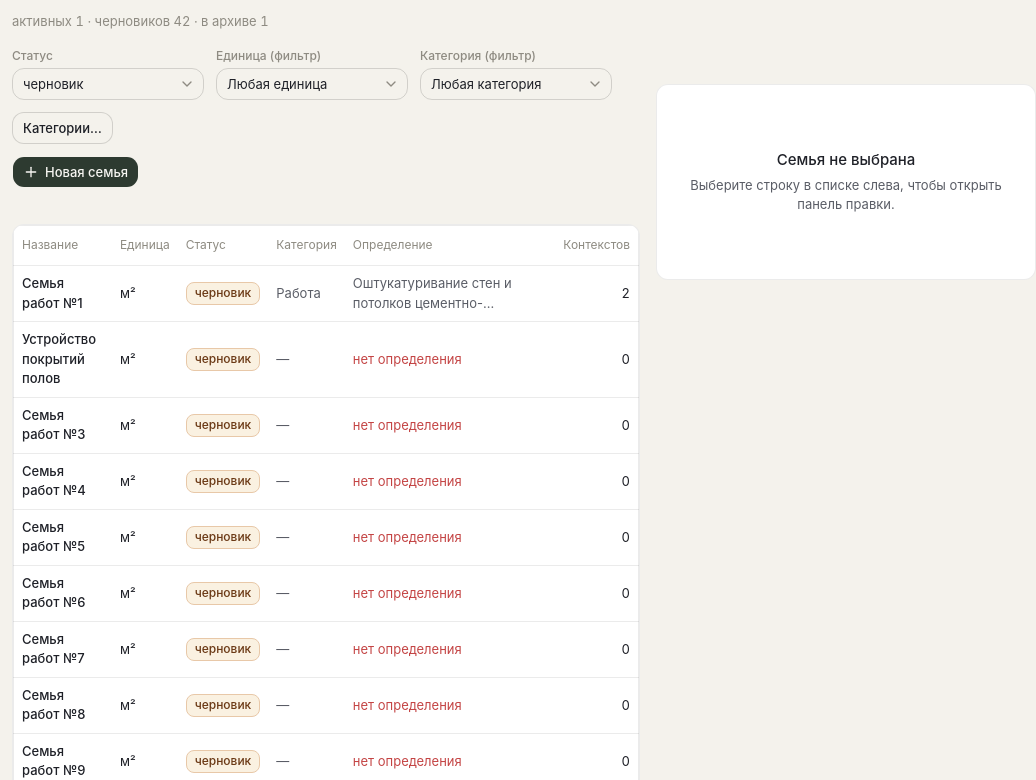
Test: FamiliesTab: категория семьи › фильтр входит в ключ кэша: у каждого значения свой запрос, а не общий список
Expected: the text "Семья работ №3" is shown, [14,397,112,453]
Click the dropdown named "Категория (фильтр)": [516, 84] box [420,68,612,100]
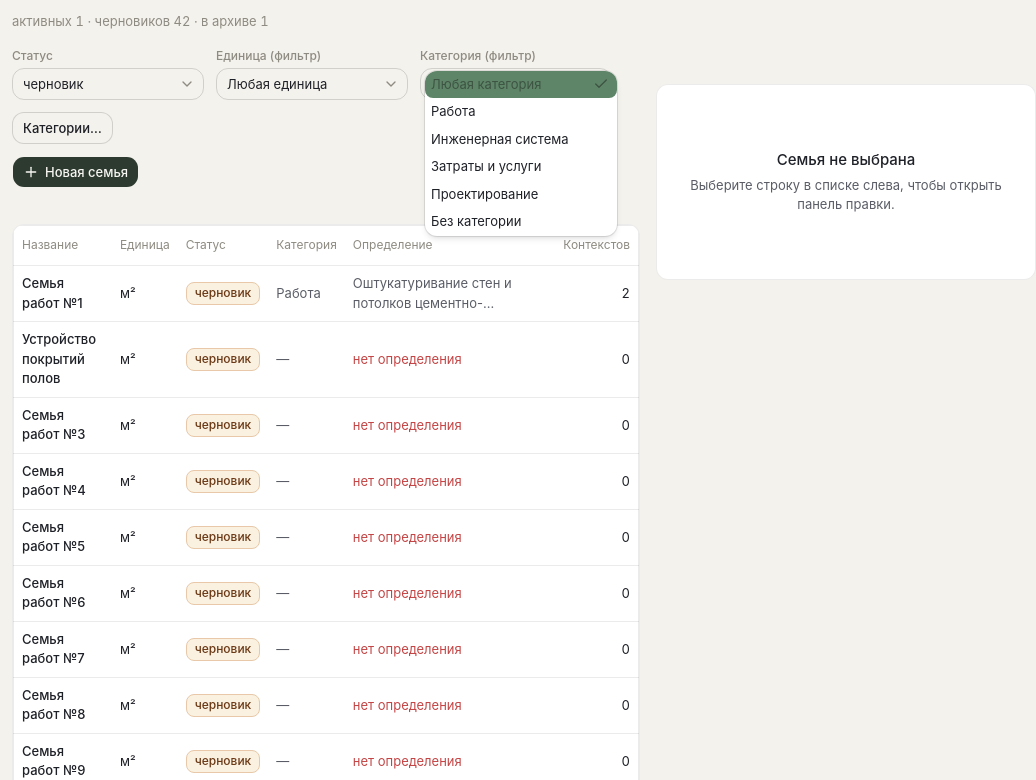
Click the option "Работа": [453, 111] box [431,103,476,119]
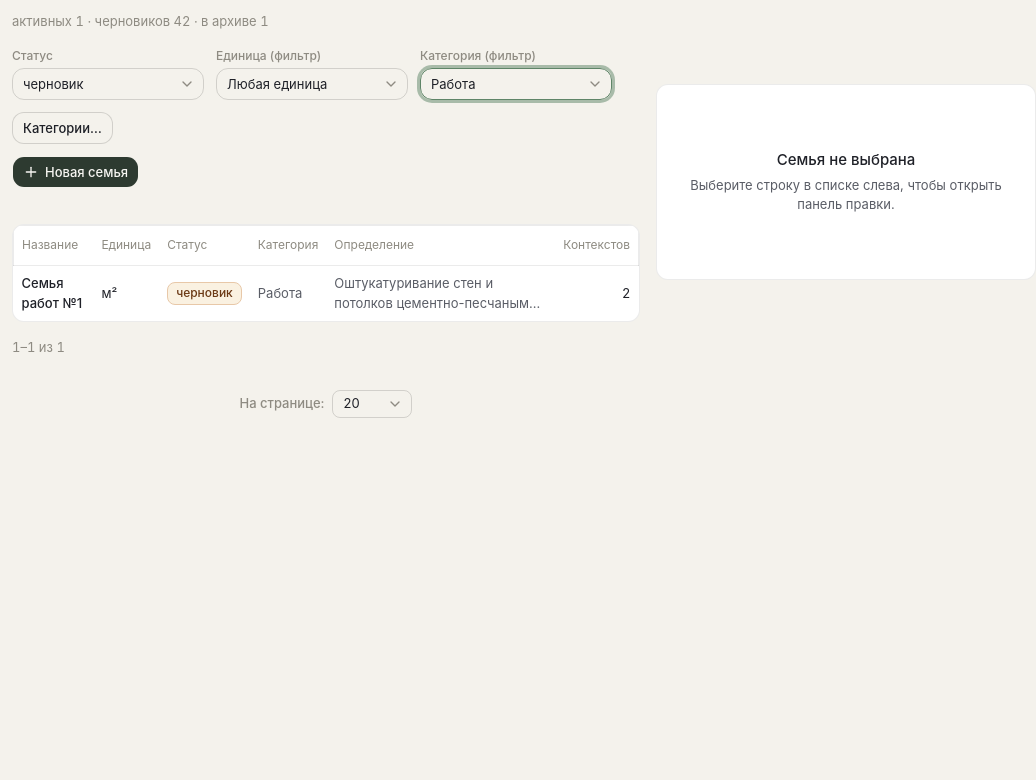
Expected: the text "Семья работ №3" is gone
Click the dropdown named "Категория (фильтр)": [516, 84] box [420,68,612,100]
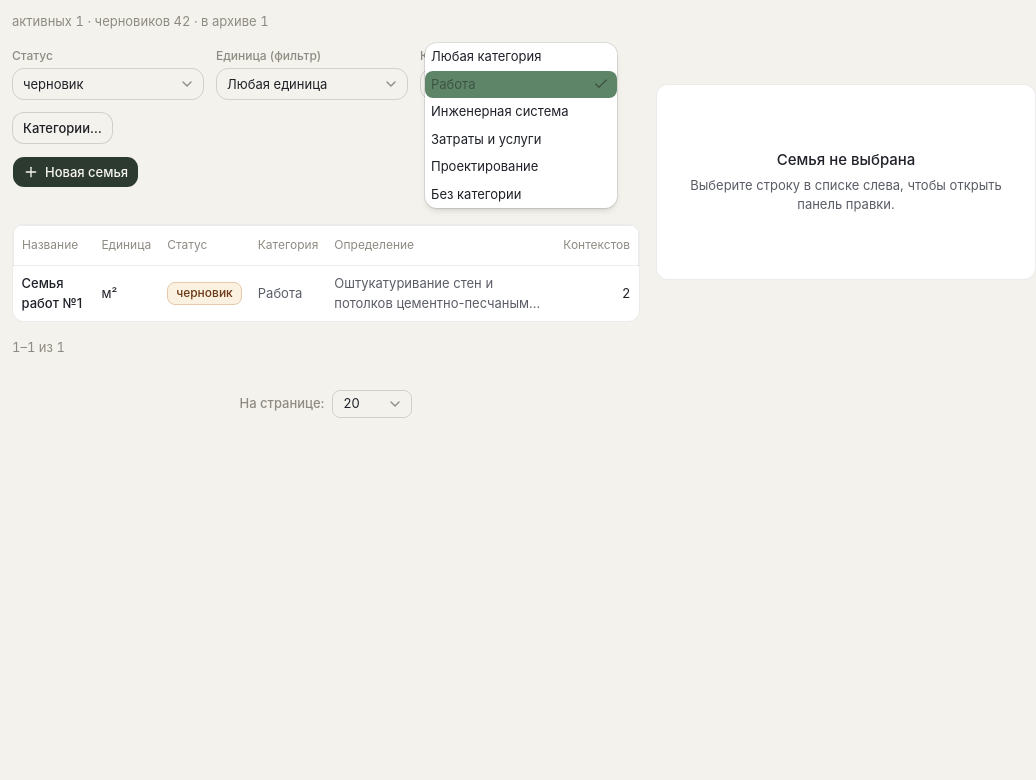
Click the option "Без категории": [476, 194] box [431,186,521,202]
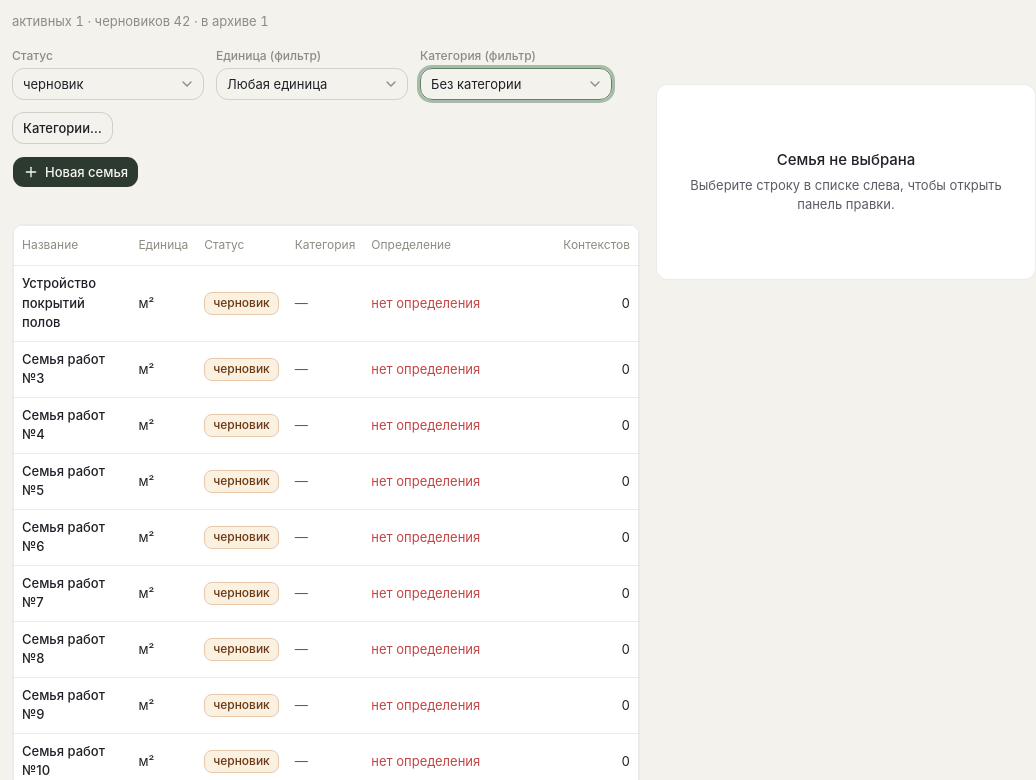
Expected: the text "Семья работ №3" is shown, [14,341,130,397]
